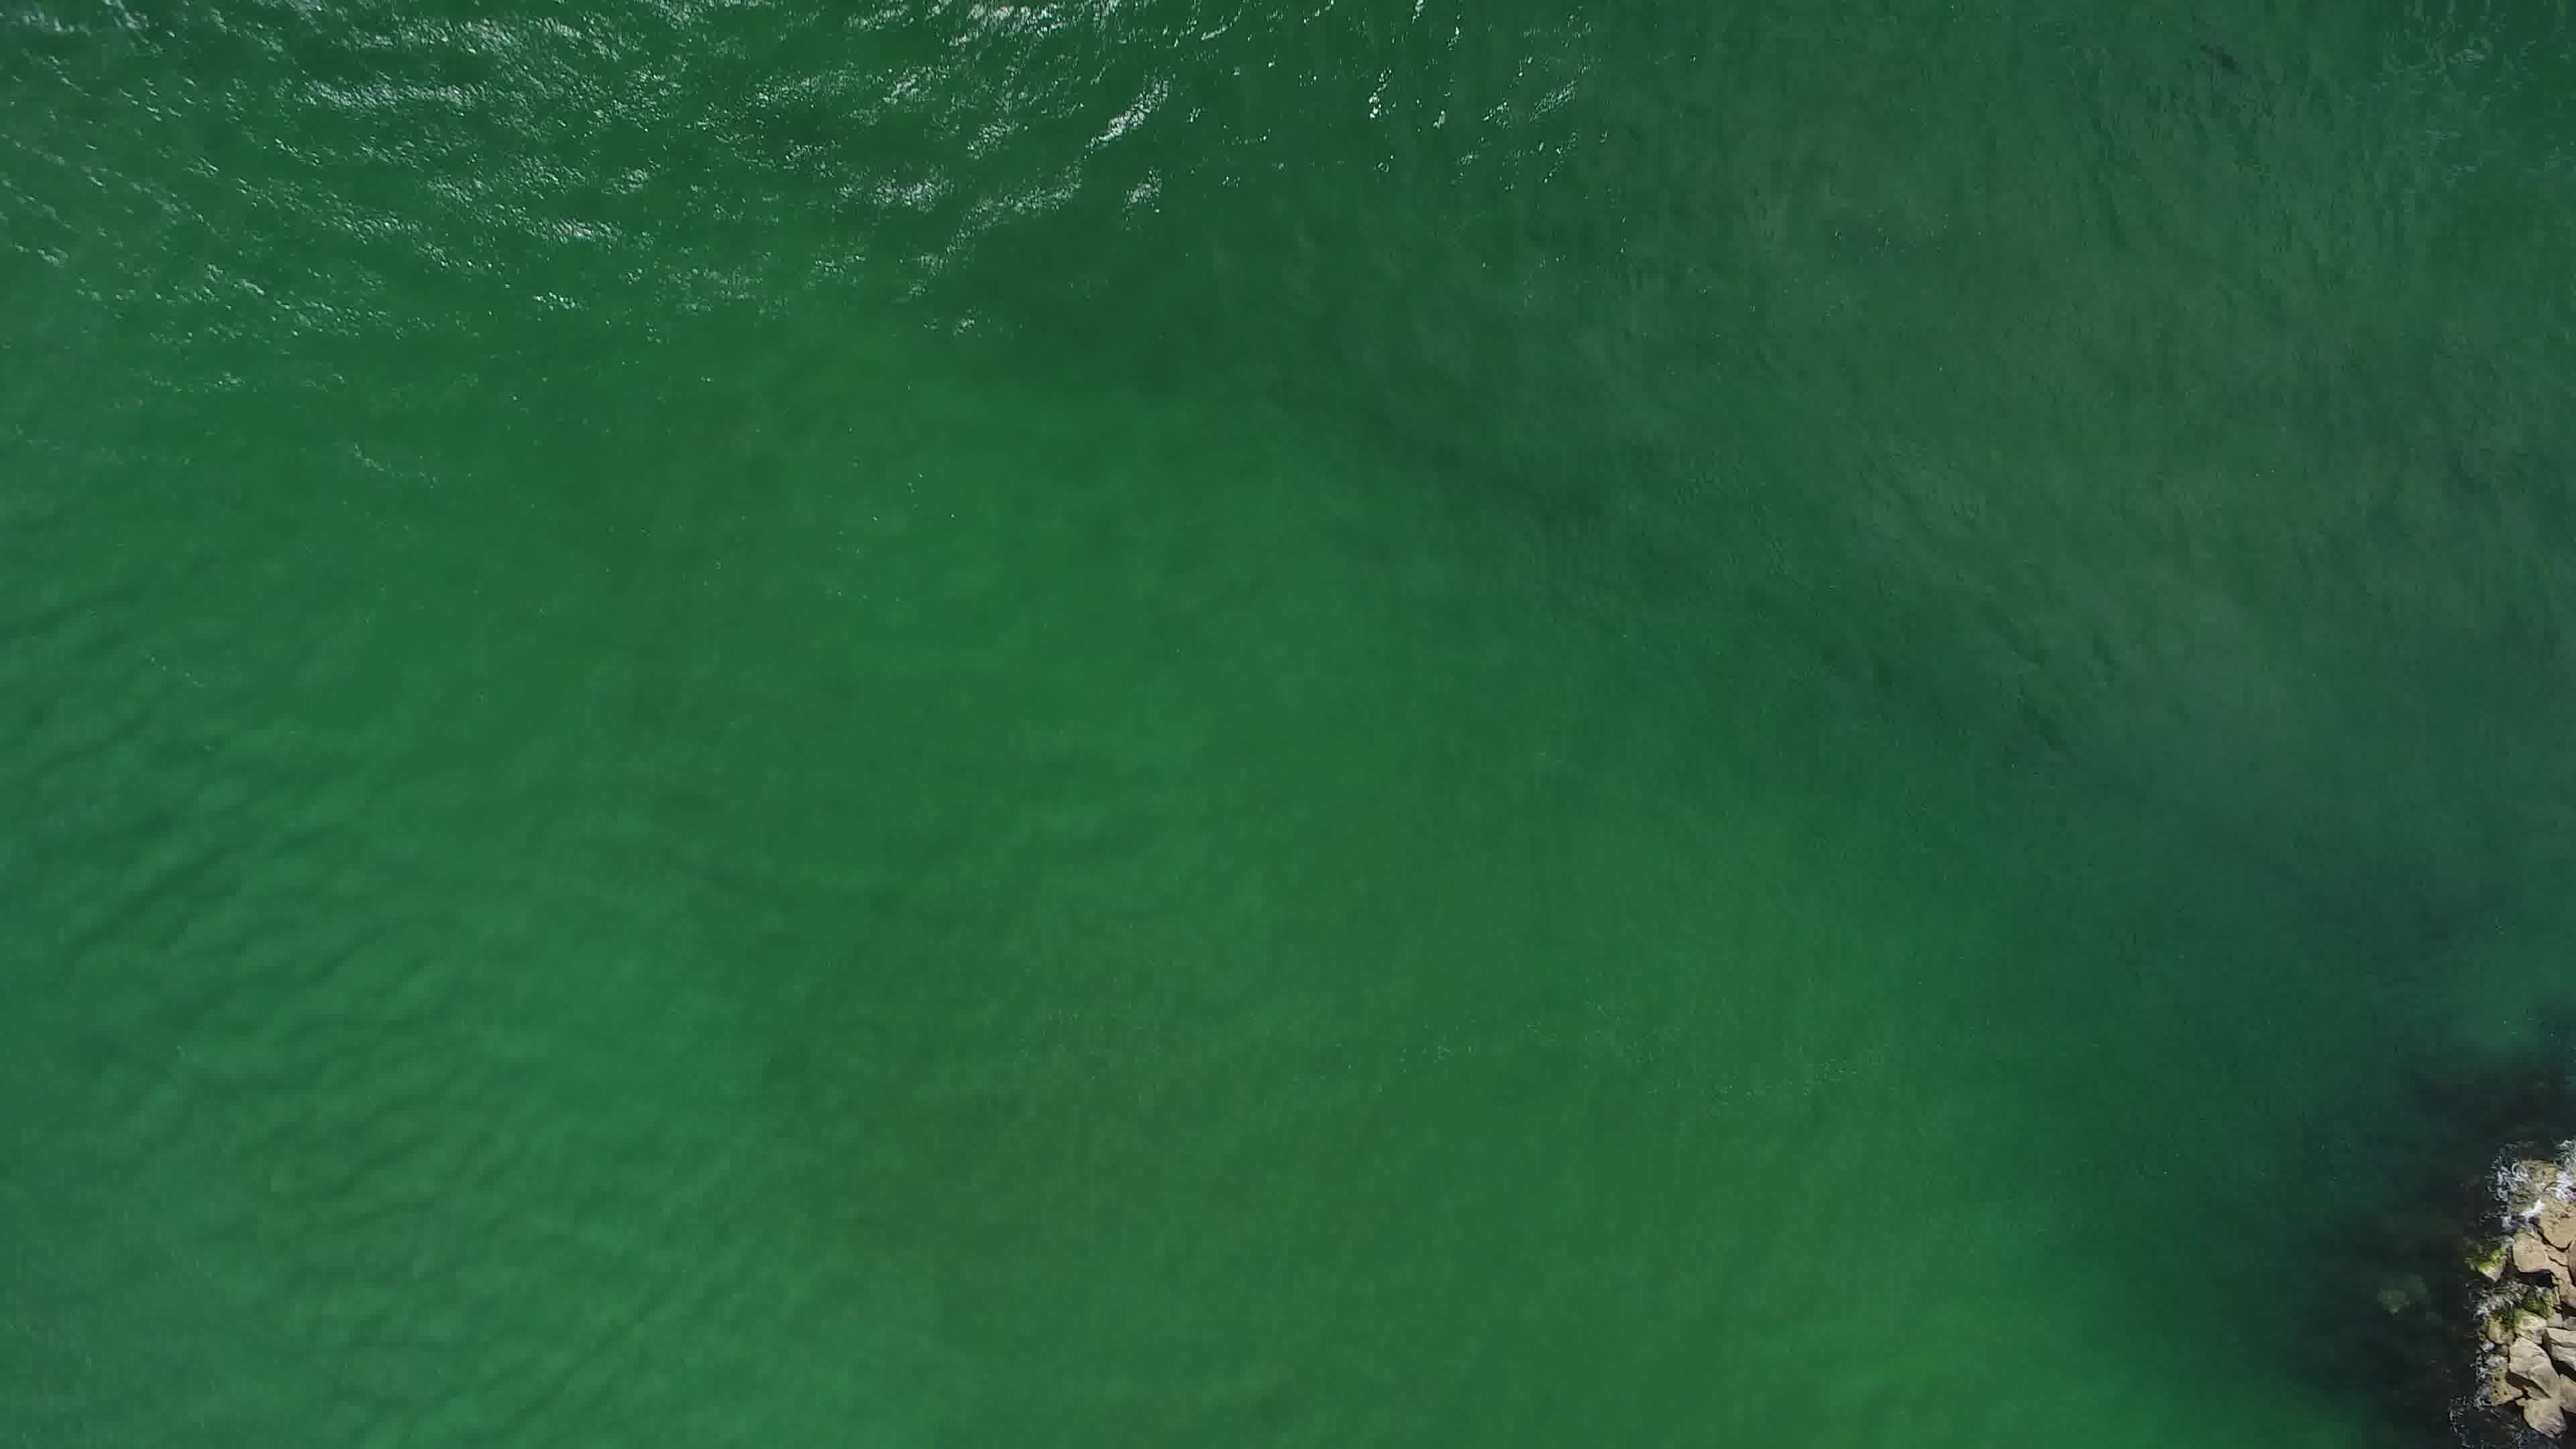dolphin: (2189, 25, 2266, 88)
